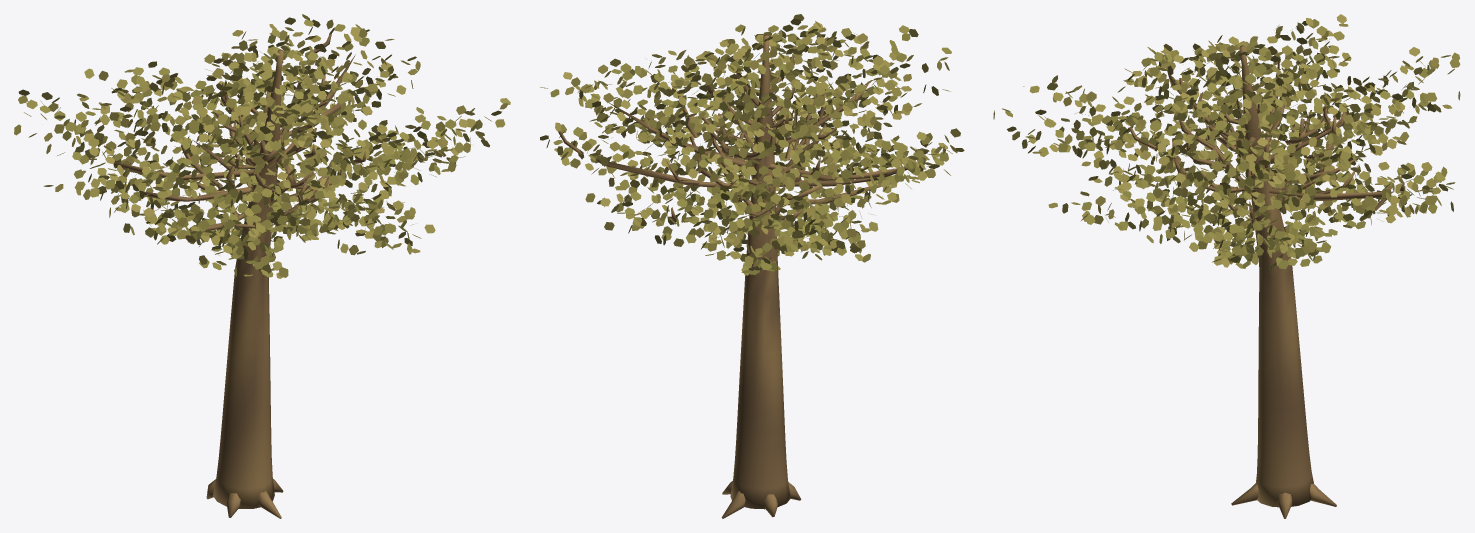
Rendered from golden_broadleaf_lod2.glb.
3 views of the same model, side by side, from view 1: azimuth 30°, elevation 25°; view 2: azimuth 150°, elevation 25°; view 3: azimuth 270°, elevation 25° (orthographic). The views are drawn at different scales.
Parts seen in each view (by area): view 1: Leaves.002, Trunk.002; view 2: Leaves.002, Trunk.002; view 3: Leaves.002, Trunk.002.
Part boxes in pixels (bbox=[...]): Leaves.002: bbox=[14, 14, 510, 278]; Trunk.002: bbox=[105, 33, 366, 518]; Leaves.002: bbox=[540, 14, 964, 277]; Trunk.002: bbox=[558, 34, 907, 518]; Leaves.002: bbox=[993, 14, 1460, 273]; Trunk.002: bbox=[1128, 45, 1404, 518].
Bounding box in the file's own units: 5.24 × 5.51 × 5.03.
